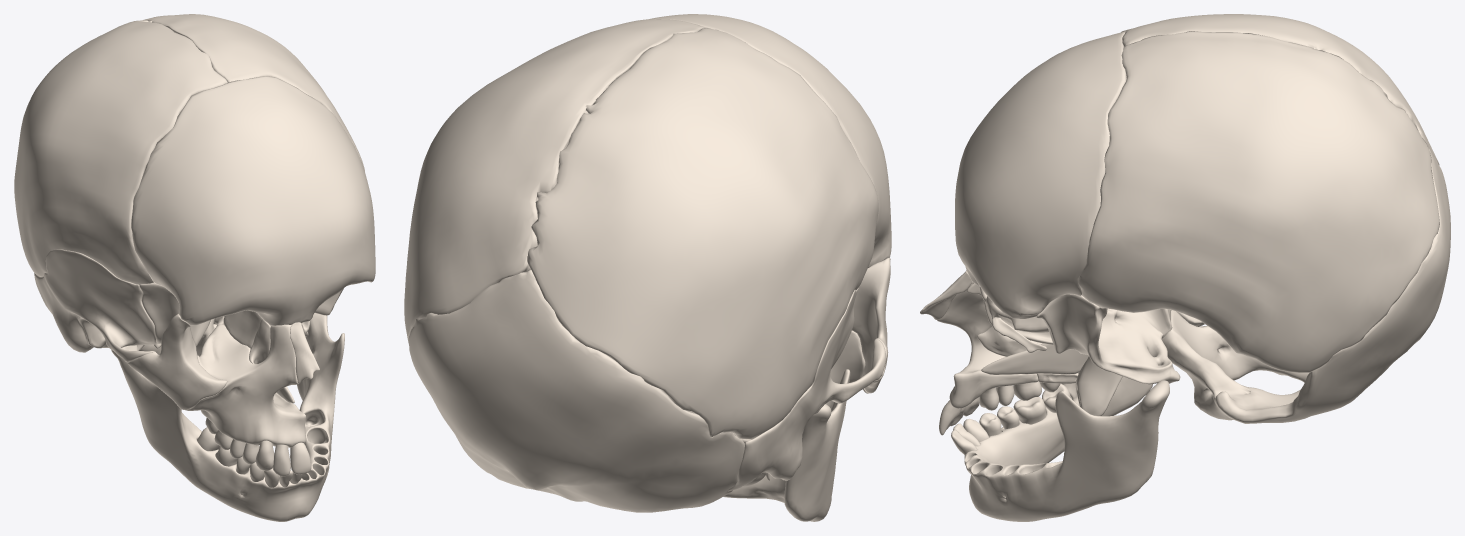
The model's file is overview-skull.glb.
3 views of the same model, side by side, from view 1: azimuth 30°, elevation 25°; view 2: azimuth 150°, elevation 25°; view 3: azimuth 270°, elevation 25° (orthographic). The views are drawn at different scales.
Parts seen in each view (by area): view 1: Frontal bone, Parietal bone right, Mandible bone, Maxilla bone.r, Temporal bone.r, Parietal bone left, Zygomatic bone.r, Sphenoid bone, Ethmoid Bone, Nasal bone.r, Lacrimal bone.r, Upper medial incisor.r (+2 smaller); view 2: Parietal bone right, Occipital bone, Parietal bone left, Frontal bone, Temporal bone.r, Mandible bone, Zygomatic bone.r, Maxilla bone.r; view 3: Parietal bone left, Frontal bone, Mandible bone, Occipital bone, Sphenoid bone, Parietal bone right, Maxilla bone.r, Vomer, Ethmoid Bone, Nasal bone.r, Inferior nasal concha bone.r, Lower first molar tooth.r.
Boxes of the visible parts, x1,y1,x2,y2 form: Frontal bone: (131,76,375,325); Parietal bone right: (14,20,227,284); Mandible bone: (111,313,344,521); Maxilla bone.r: (185,324,306,447); Temporal bone.r: (34,249,156,362); Parietal bone left: (143,14,364,171); Zygomatic bone.r: (128,313,227,409); Sphenoid bone: (139,282,343,356); Ethmoid Bone: (223,310,309,348); Nasal bone.r: (290,322,319,383); Lacrimal bone.r: (249,319,270,363); Upper medial incisor.r: (290,442,311,474); Parietal bone right: (527,28,878,439); Occipital bone: (408,269,744,512); Parietal bone left: (404,19,703,343); Frontal bone: (649,14,891,267); Temporal bone.r: (728,287,886,491); Mandible bone: (723,369,850,521); Zygomatic bone.r: (852,258,890,393); Maxilla bone.r: (826,330,868,409); Parietal bone left: (1078,31,1439,372); Frontal bone: (955,31,1126,318); Mandible bone: (964,373,1169,521); Occipital bone: (1162,147,1450,423); Sphenoid bone: (1036,294,1180,415); Parietal bone right: (1121,14,1439,165); Maxilla bone.r: (937,284,1038,408); Vomer: (981,343,1088,374); Ethmoid Bone: (966,283,1076,352); Nasal bone.r: (920,270,972,319); Inferior nasal concha bone.r: (977,326,1042,356); Lower first molar tooth.r: (1013,396,1046,424).
Bounding box in the file's own units: 0.1485 × 0.2013 × 0.2038.
